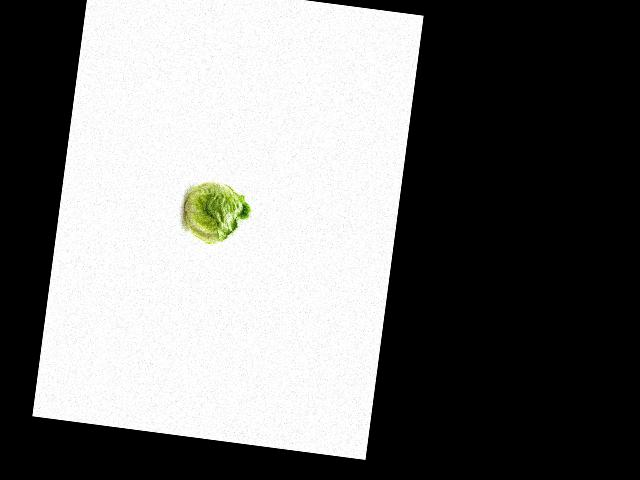lettuce: (176, 175, 255, 254)
